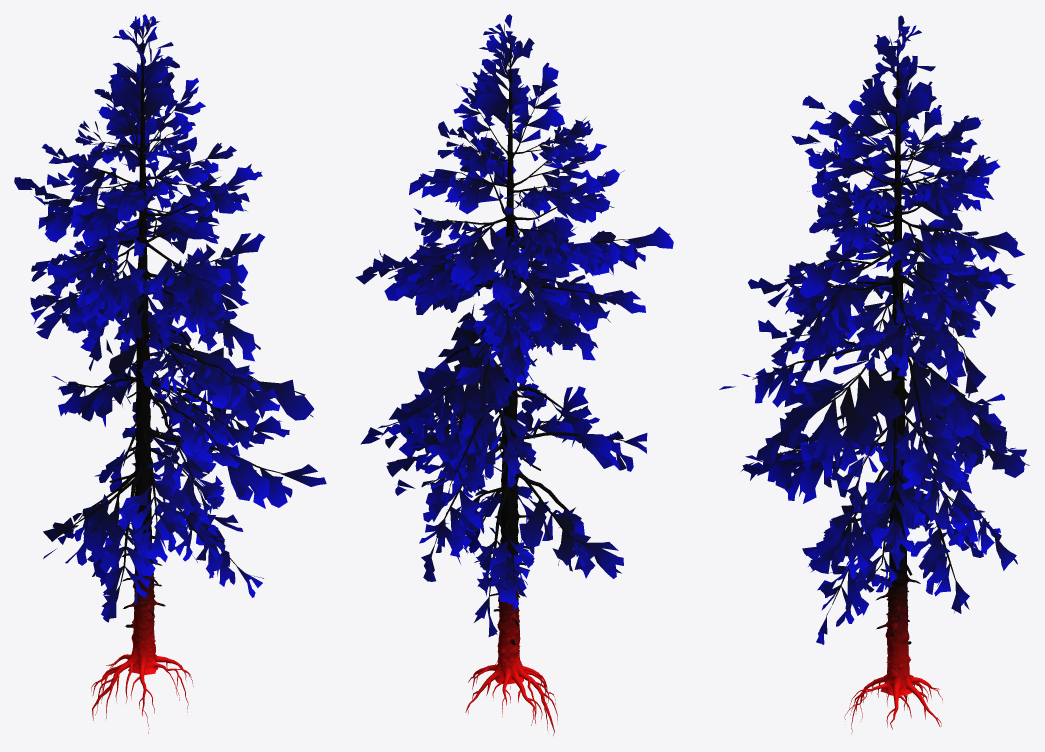
File: SM_SilverFir_03.fbx
3 views of the same model, side by side, from view 1: azimuth 30°, elevation 25°; view 2: azimuth 150°, elevation 25°; view 3: azimuth 270°, elevation 25° (orthographic). The views are drawn at different scales.
Parts seen in each view (by area): view 1: SM_SilverFir_03_LOD0; view 2: SM_SilverFir_03_LOD0; view 3: SM_SilverFir_03_LOD0.
Part boxes in pixels (x1=…): SM_SilverFir_03_LOD0: x1=14, y1=14, x2=326, y2=733; SM_SilverFir_03_LOD0: x1=355, y1=14, x2=673, y2=735; SM_SilverFir_03_LOD0: x1=719, y1=15, x2=1029, y2=734.
Bounding box in the file's own units: 1180 × 1131 × 2827.
